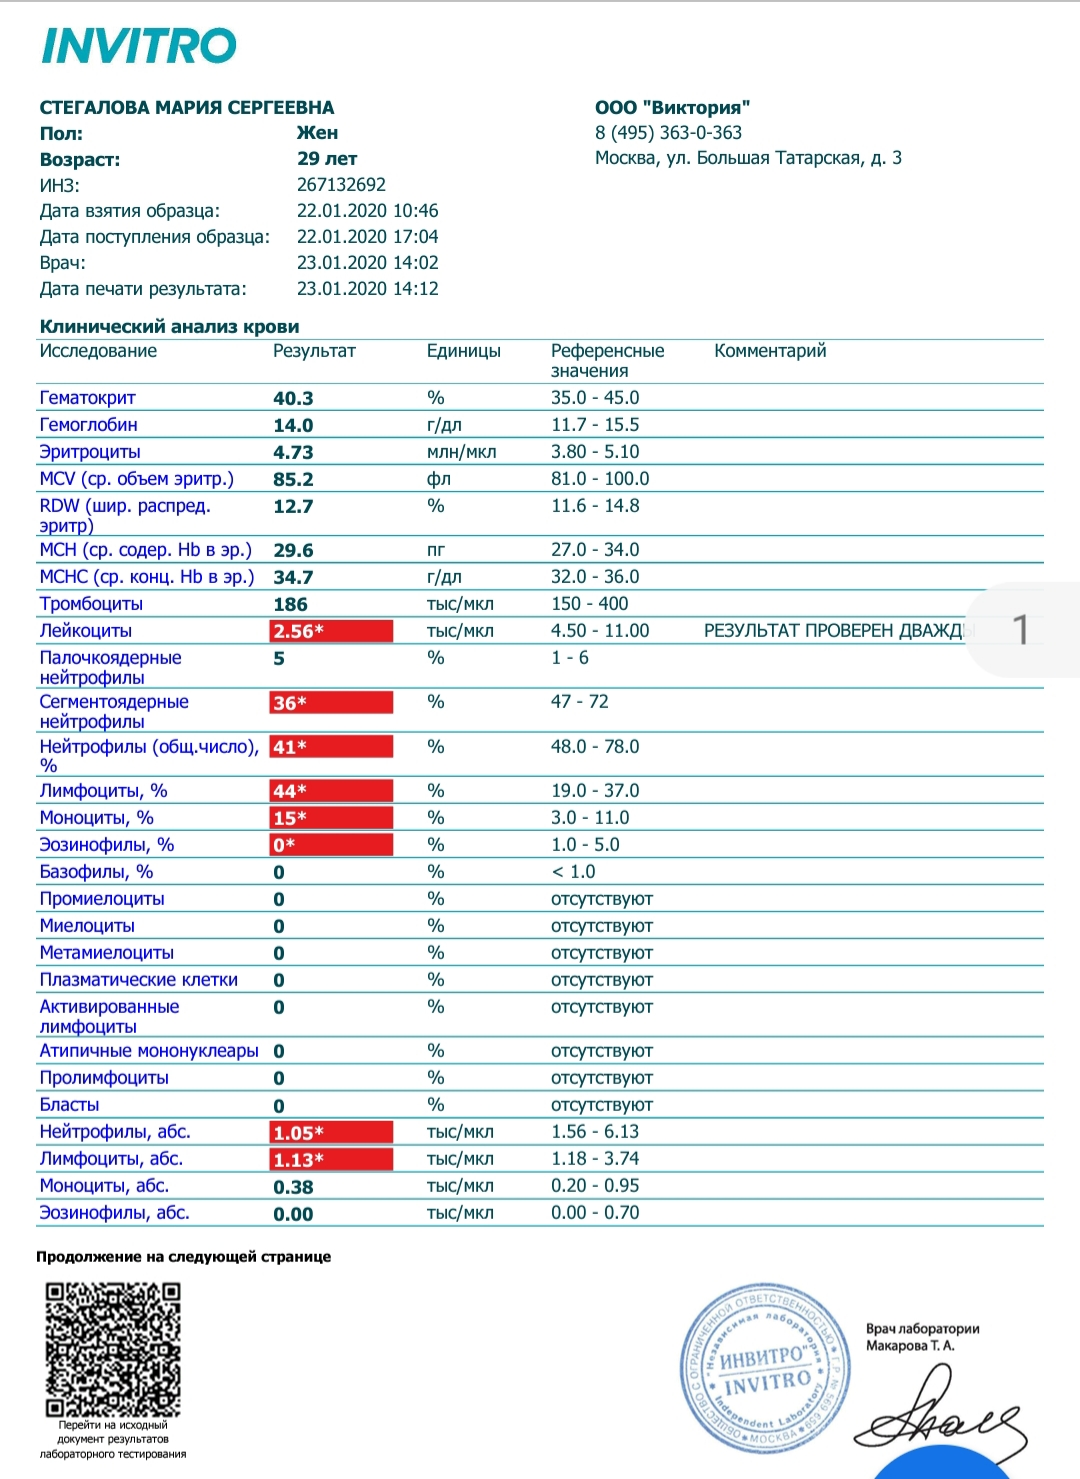column: (704, 339, 976, 1226), (39, 339, 259, 1226), (550, 339, 665, 1226), (272, 339, 357, 1226), (426, 339, 502, 1226)
